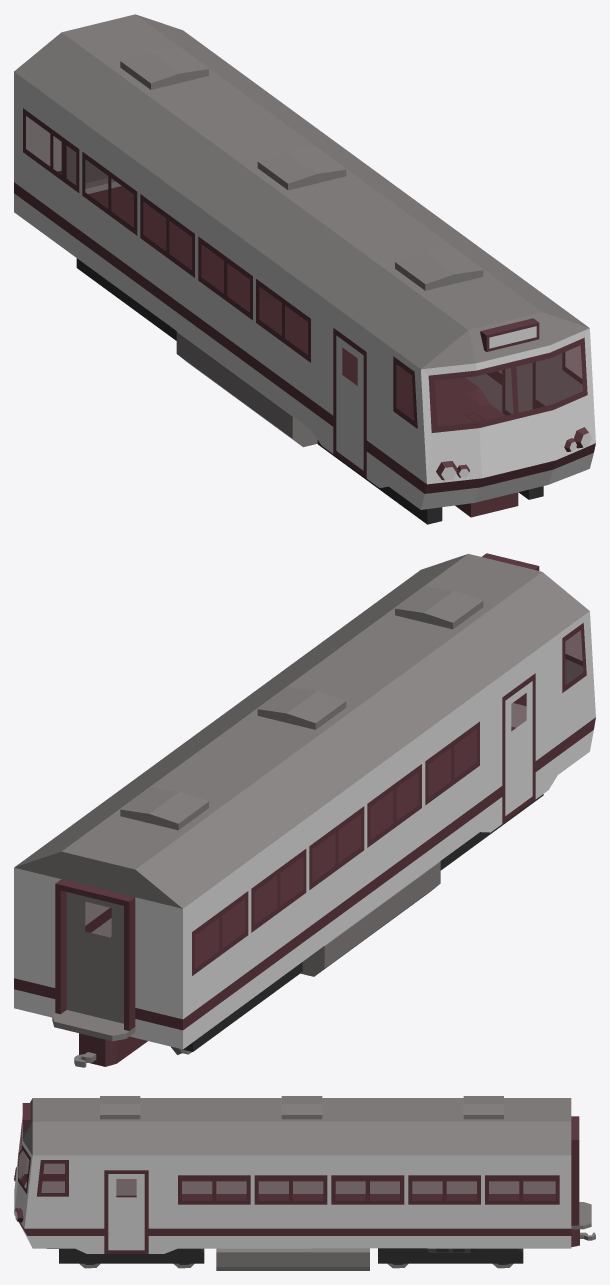
Rendered from train-passenger.fbx.
3 renders of one model, top to bottom at view 1: azimuth 30°, elevation 25°; view 2: azimuth 150°, elevation 25°; view 3: azimuth 270°, elevation 25°, orthographic. The views are drawn at different scales.
Visible parts, largest first — view 1: train-passenger-base, train-passenger-base-wheel-frame_F, train-passenger-base-wheel-frame_B; view 2: train-passenger-base, train-passenger-base-wheel-frame_B; view 3: train-passenger-base, train-passenger-base-wheel-frame_B, train-passenger-base-wheel-frame_F.
Part boxes in pixels (left/top/right/bottom): train-passenger-base: left=14, top=14, right=595, bottom=517; train-passenger-base-wheel-frame_F: left=317, top=413, right=543, bottom=524; train-passenger-base-wheel-frame_B: left=76, top=258, right=176, bottom=340; train-passenger-base: left=14, top=553, right=595, bottom=1067; train-passenger-base-wheel-frame_B: left=178, top=962, right=302, bottom=1051; train-passenger-base: left=14, top=1096, right=595, bottom=1270; train-passenger-base-wheel-frame_B: left=378, top=1248, right=523, bottom=1263; train-passenger-base-wheel-frame_F: left=59, top=1248, right=204, bottom=1263.
Bounding box in the file's own units: 3.2 × 4.17 × 14.41.
